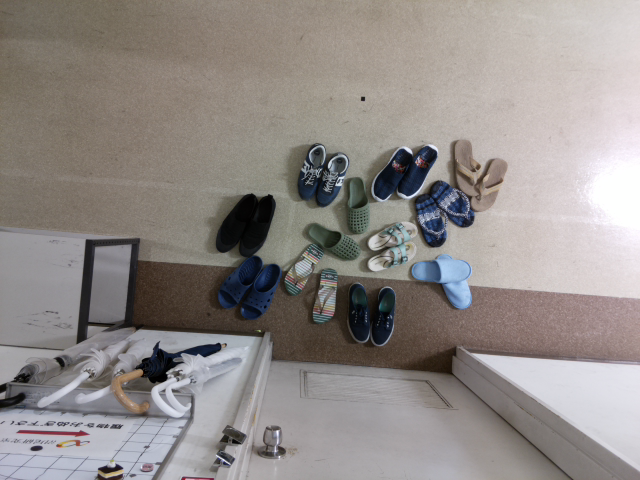Copy of Copy of Copy of Copy of Copy of Copy of Copy of sandal: (469, 157, 508, 212)
Copy of Copy of Copy of Copy of Copy of Copy of Copy of shoes: (297, 142, 326, 200)
Copy of Copy of Copy of Copy of Copy of Copy of sandal: (454, 138, 483, 196)
Copy of Copy of Copy of Copy of Copy of Copy of shoes: (314, 151, 349, 206)
Copy of Copy of Copy of Copy of Copy of sandal: (415, 193, 447, 246)
Copy of Copy of Copy of Copy of Copy of shoes: (370, 286, 396, 346)
Copy of Copy of Copy of Copy of Copy of slipper: (217, 255, 262, 308)
Copy of Copy of Copy of Copy of sandal: (429, 180, 475, 228)
Copy of Copy of Copy of Copy of shoes: (346, 281, 370, 342)
Copy of Copy of Copy of Copy of slipper: (238, 263, 281, 320)
Copy of Copy of Copy of sandal: (367, 241, 416, 271)
Copy of Copy of Copy of shoes: (216, 193, 258, 252)
Copy of Copy of Copy of slipper: (434, 253, 472, 308)
Copy of Copy of sandal: (366, 221, 418, 250)
Copy of Copy of shoes: (238, 193, 276, 256)
Copy of Copy of slipper: (410, 258, 471, 283)
Copy of sandal: (312, 268, 338, 323)
Copy of shoes: (370, 145, 413, 202)
Copy of slipper: (305, 222, 361, 260)
sandal: (284, 243, 324, 296)
shoes: (395, 142, 439, 198)
slipper: (346, 175, 369, 234)
